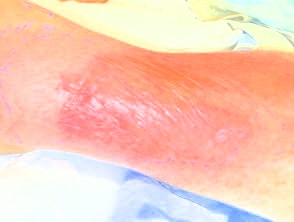SJS-TEN: (45, 37, 292, 181)
